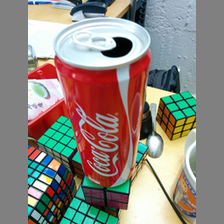soda: (52, 17, 153, 188)
